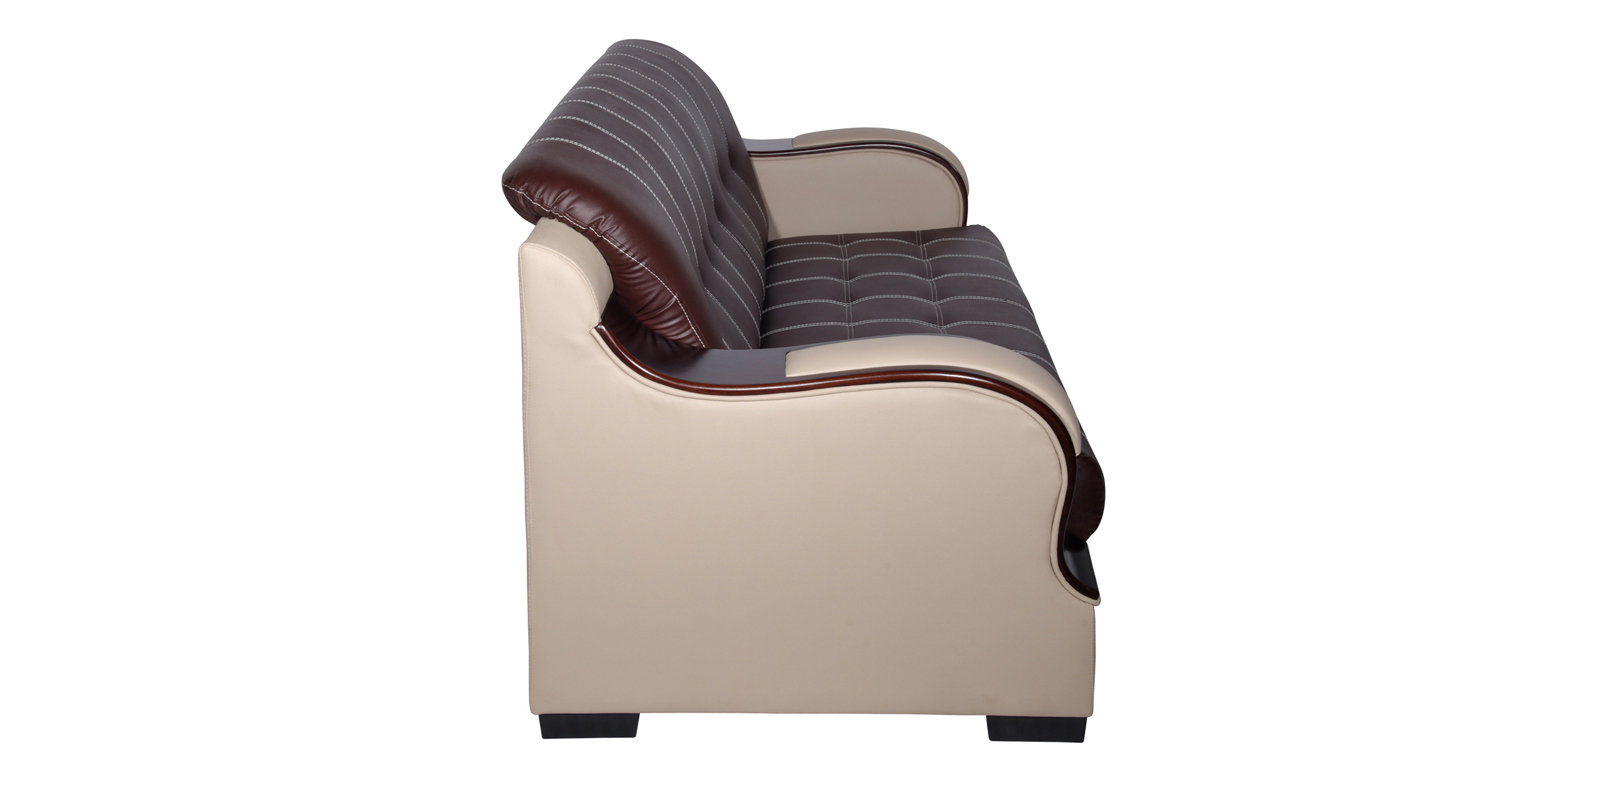Bella Three Seater Sofa in Brown Leatherette by Furniture Mind: (500, 12, 1112, 748)
